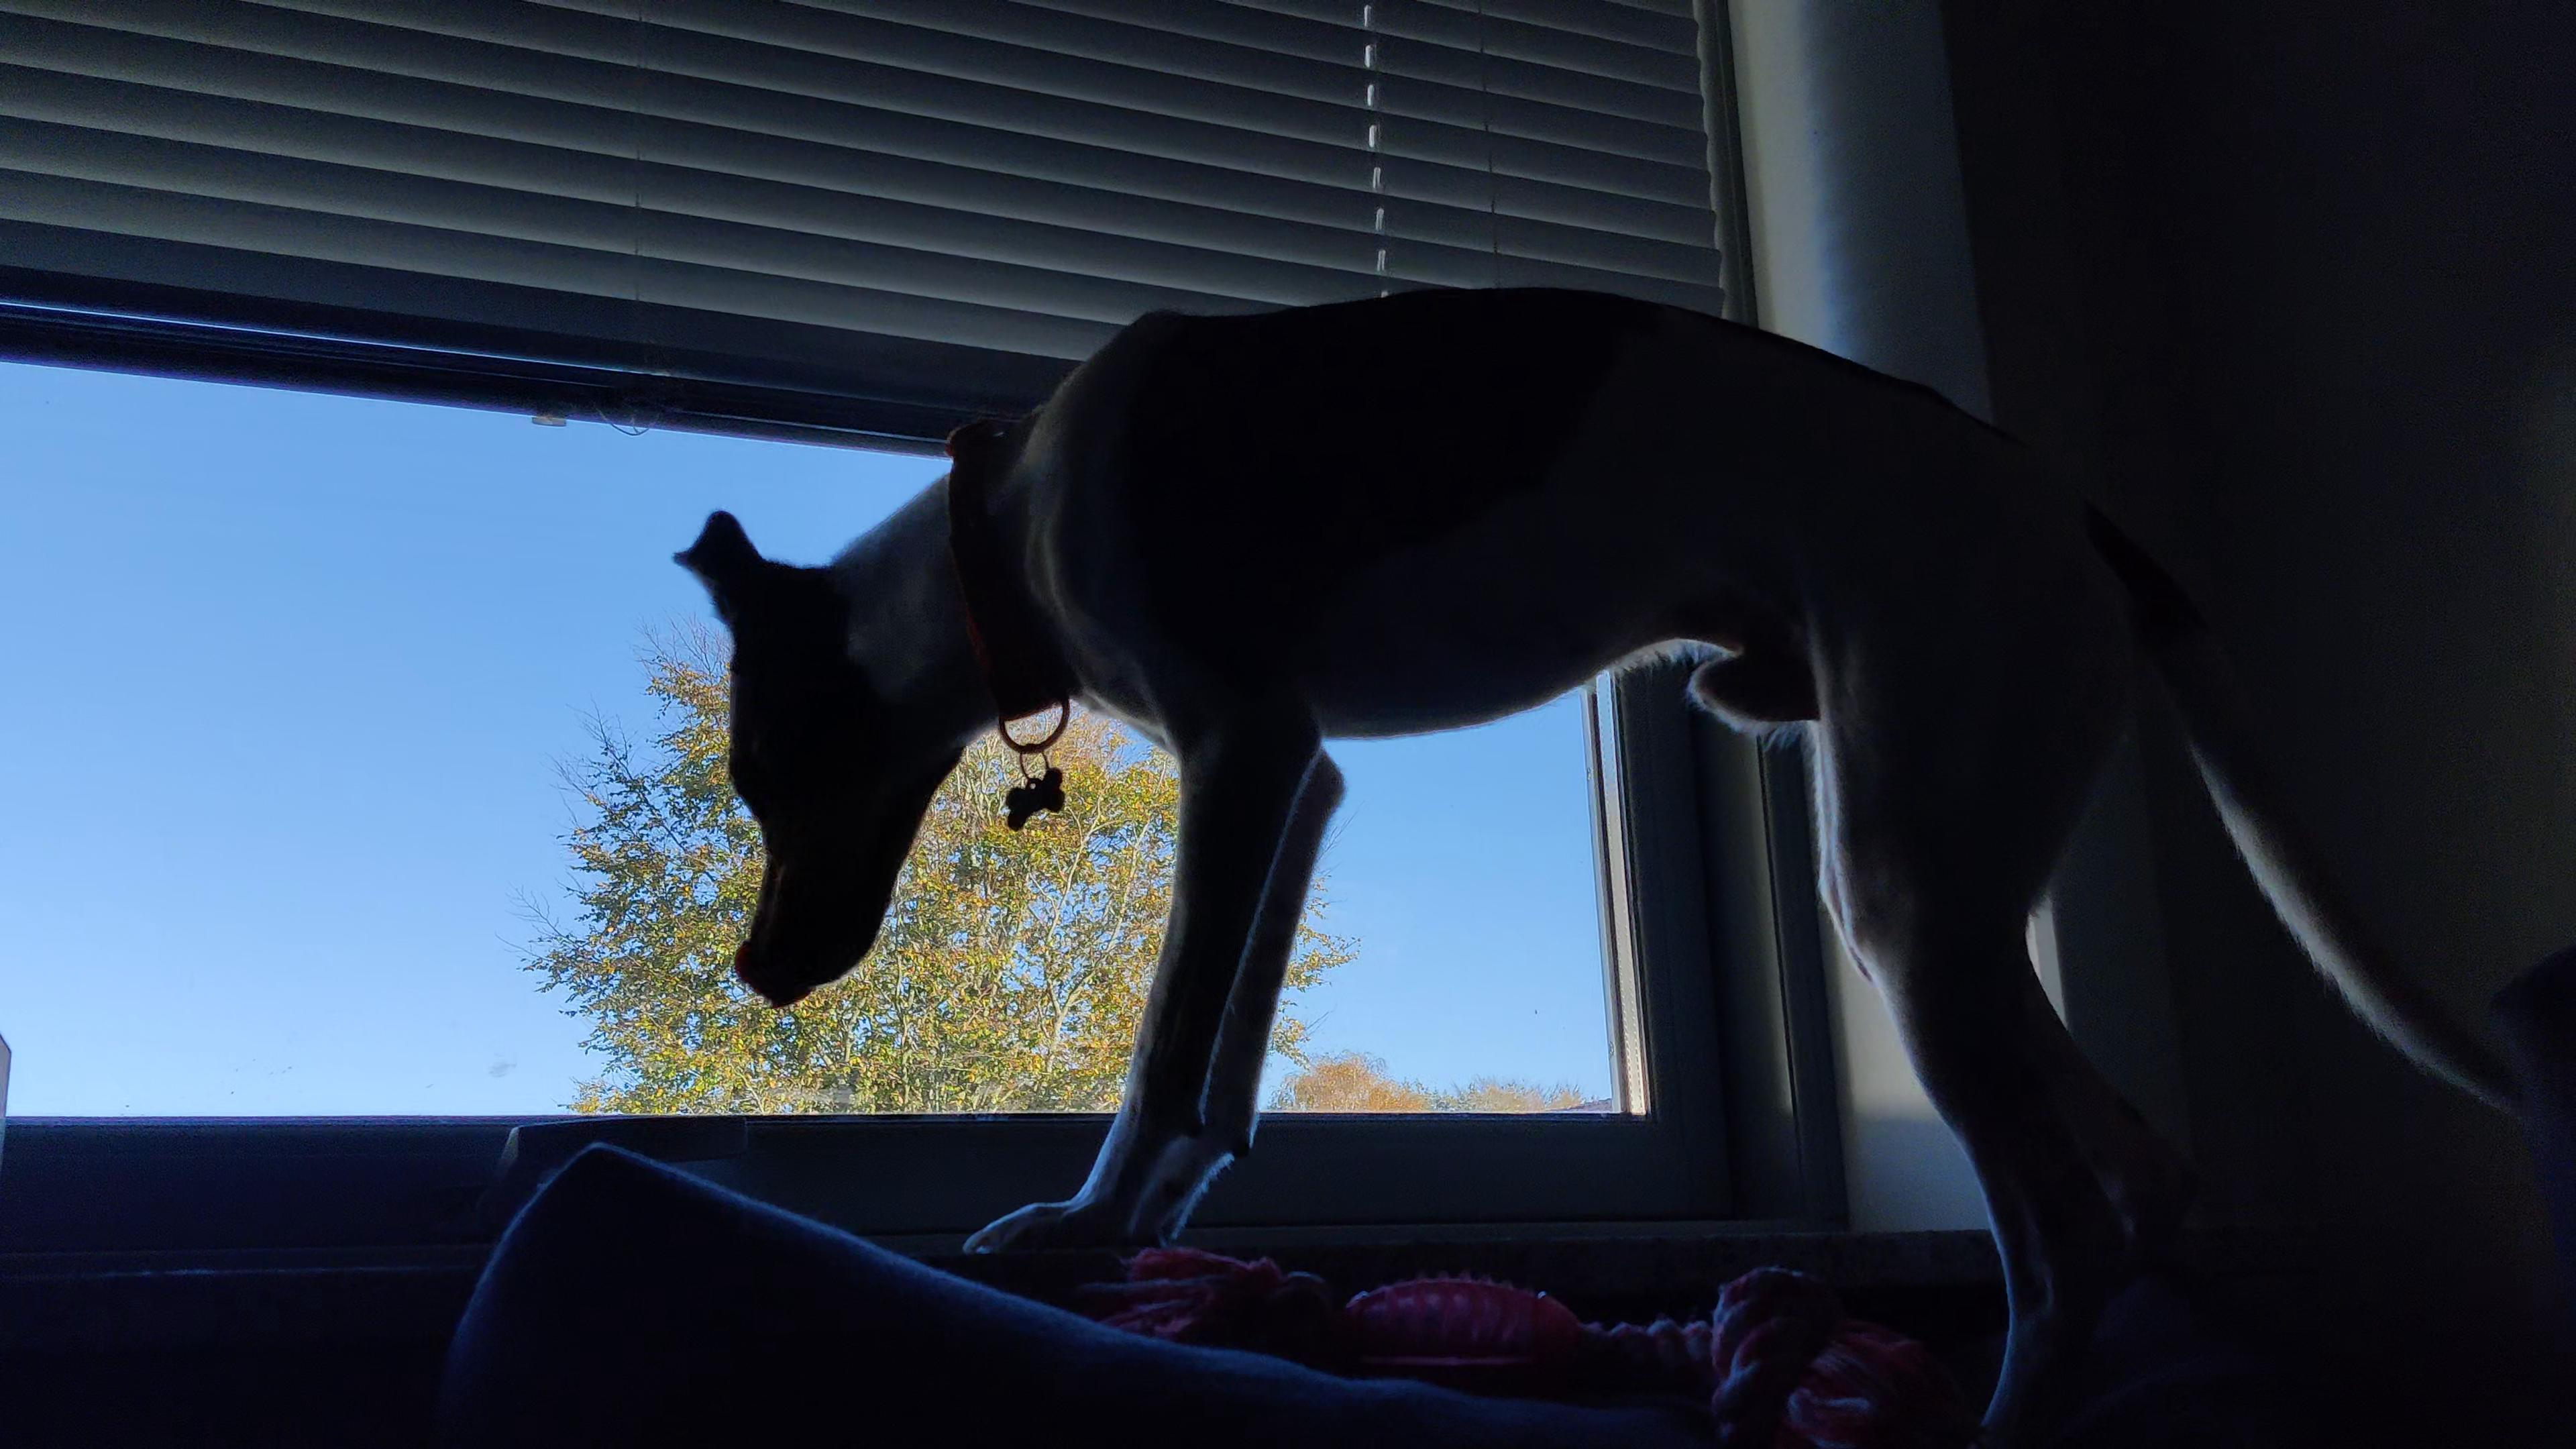Dog: (671, 283, 2530, 1449)
